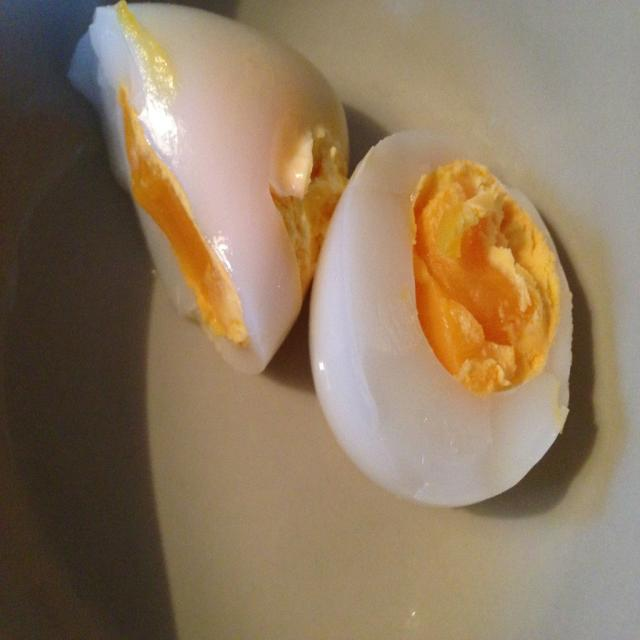Egg: (68, 0, 572, 509)
